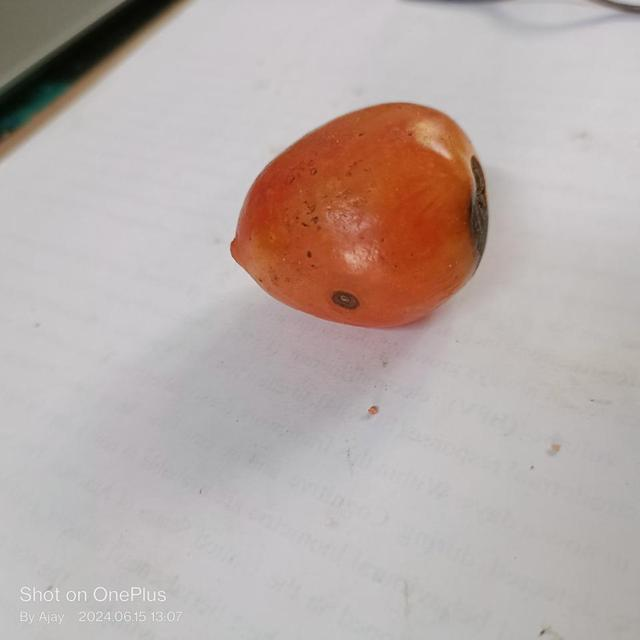Bacterial Spot Fruit: (220, 193, 242, 210)
